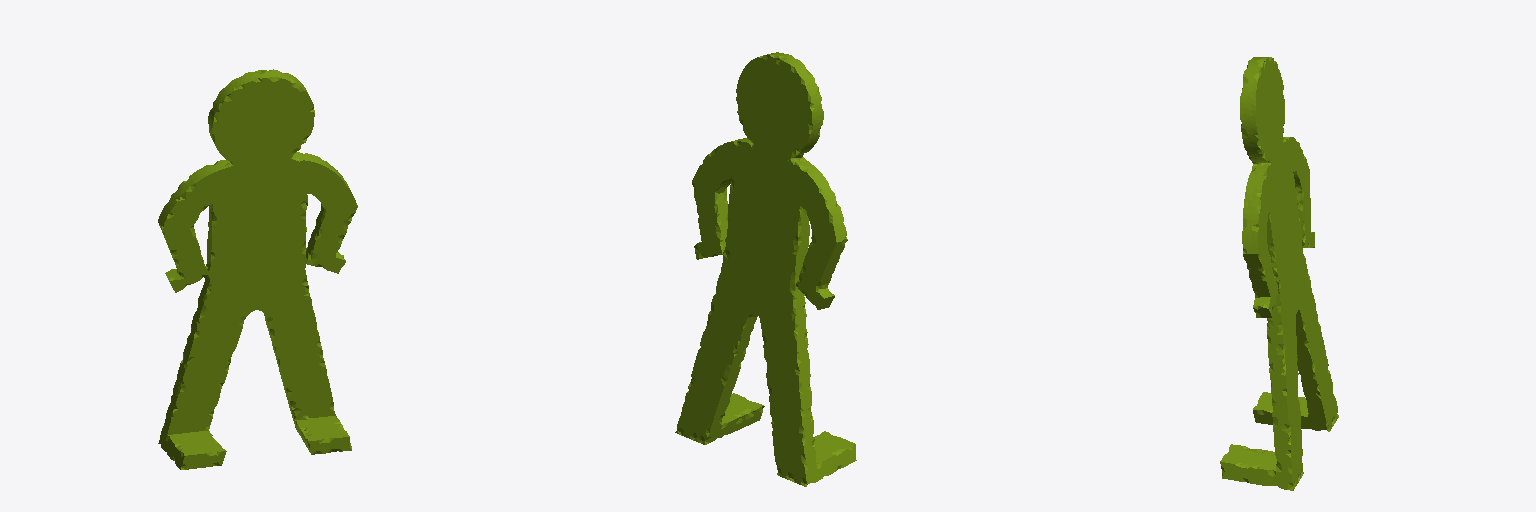
File: model_decimated.obj
3 views of the same model, side by side, from view 1: azimuth 30°, elevation 25°; view 2: azimuth 150°, elevation 25°; view 3: azimuth 270°, elevation 25° (orthographic).
Bounding box in the file's own units: 24.52 × 51.93 × 14.55.